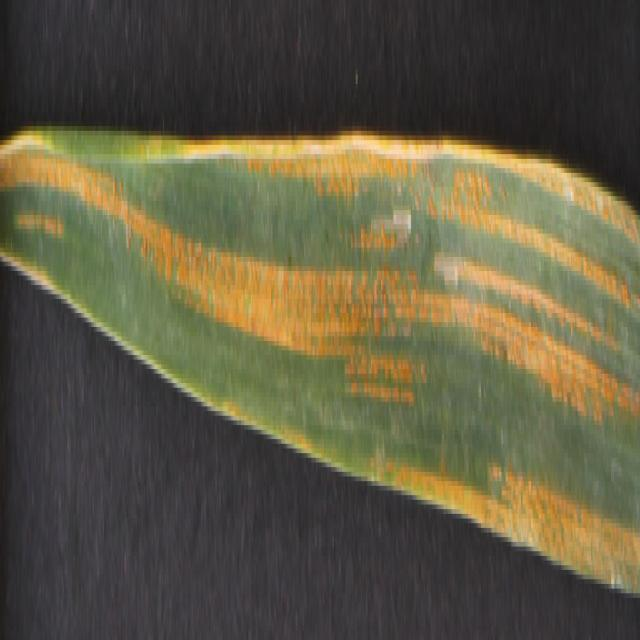leaf rust: (1, 14, 640, 588)
